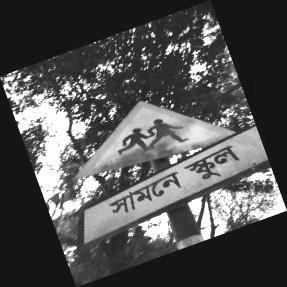School-in-front: (73, 100, 267, 248)
